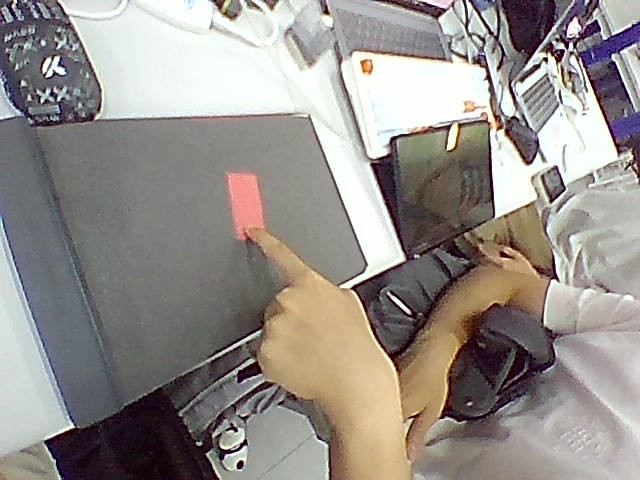card: (227, 172, 264, 239)
